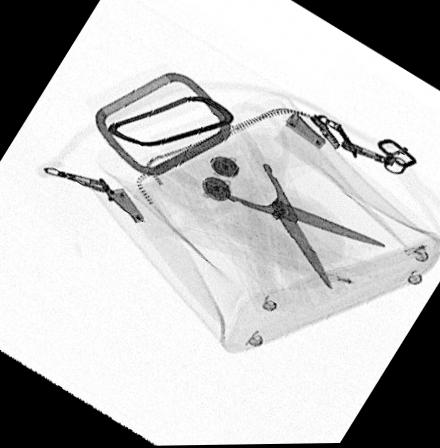Scissors: (154, 100, 389, 291)
